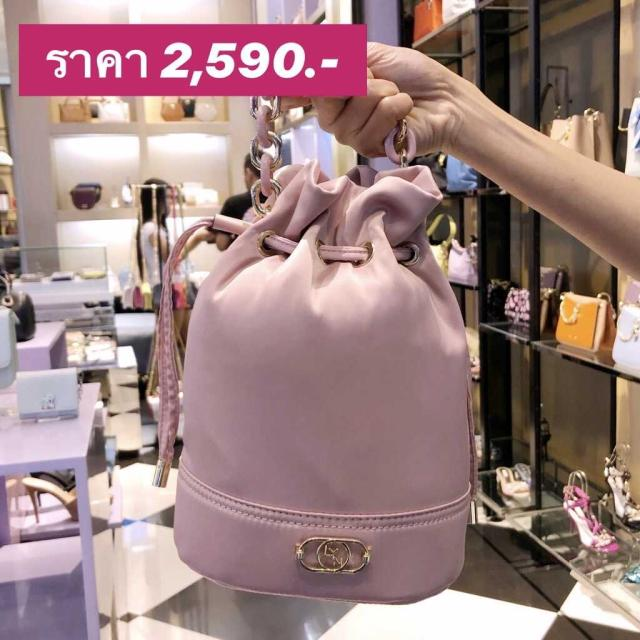bag: (148, 96, 478, 608)
